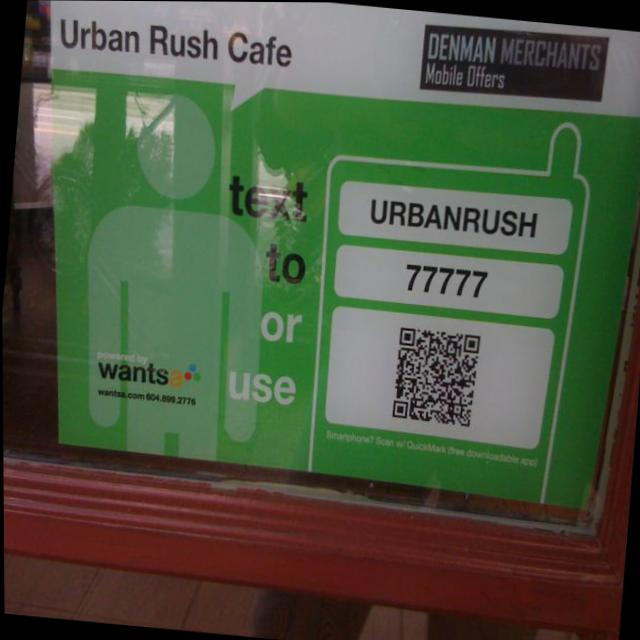qrcode: (392, 327, 481, 427)
